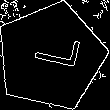L_W: (22, 36, 79, 78)
